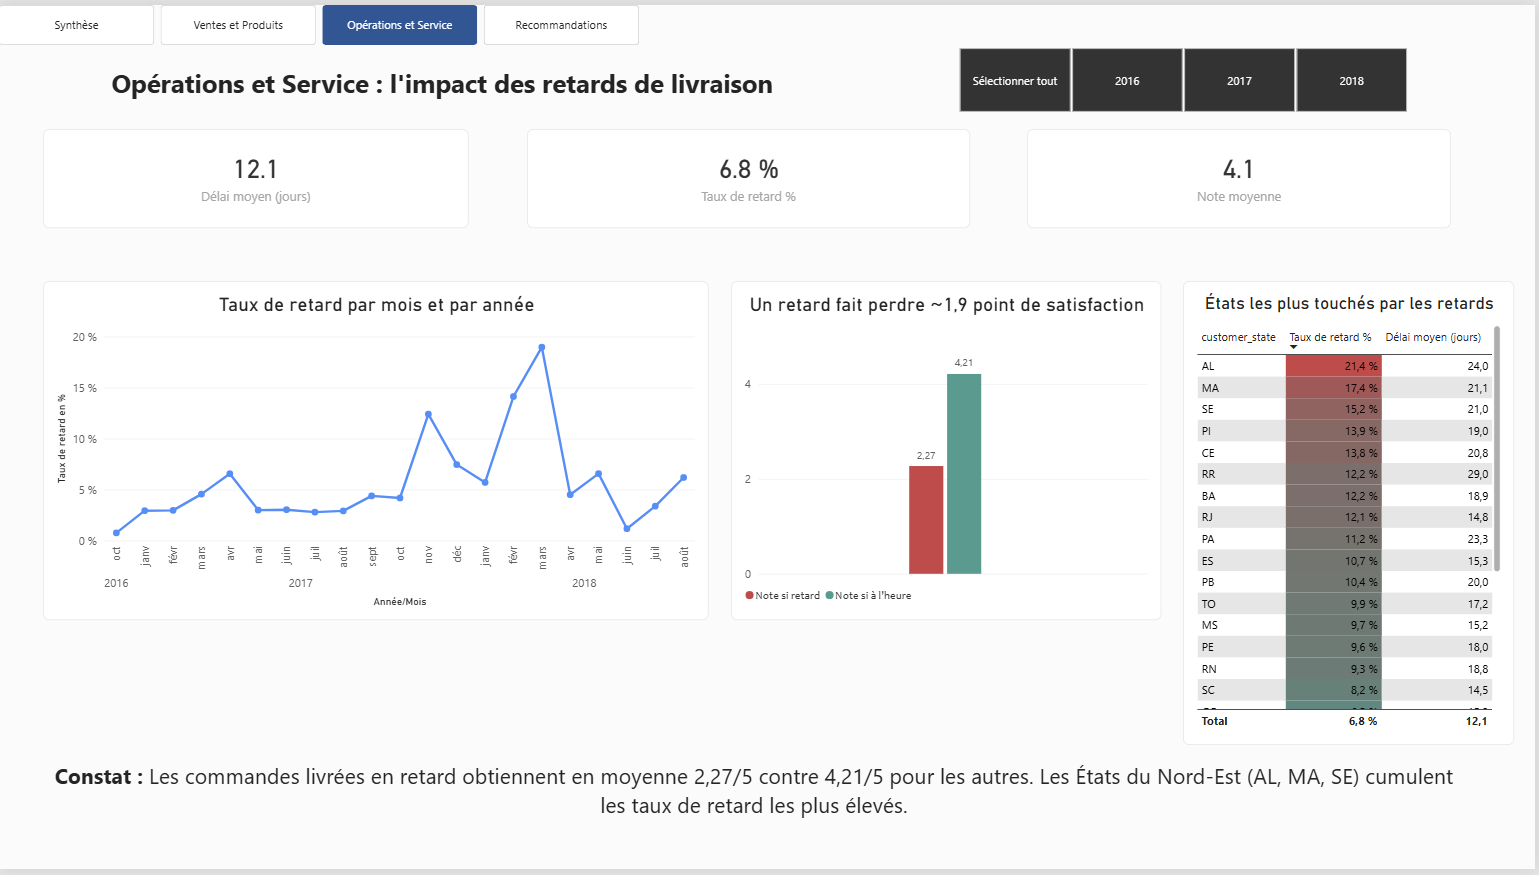

What the dashboard file says about the page in this screenshot:
{"tool":"powerbi","page":{"name":"Opérations et Service","canvas":[1920,1080],"ordinal":2},"visuals":[{"type":"advanceCardE03760C5AB684758B56AA29F9E6C257B","fields":{"mainMeasure":["_Mesures.Délai moyen (jours)"]},"box":[54,156,532,124],"z":0},{"type":"advanceCardE03760C5AB684758B56AA29F9E6C257B","fields":{"mainMeasure":["_Mesures.Taux de retard %"]},"box":[659,156,554,124],"z":1000},{"type":"advanceCardE03760C5AB684758B56AA29F9E6C257B","fields":{"mainMeasure":["_Mesures.Note moyenne"]},"box":[1286,156,530,124],"z":2000},{"type":"clusteredColumnChart","title":"Un retard fait perdre ~1,9 point de satisfaction","fields":{"Y":["_Mesures.Note si retard","_Mesures.Note si à l'heure"]},"box":[915,346,538,424],"z":3000},{"type":"lineChart","title":"Taux de retard par mois et par année","fields":{"Category":["calendrier.Année","calendrier.Mois"],"Y":["_Mesures.Taux de retard % (courbe)"]},"box":[56,346,832,424],"z":4000},{"type":"tableEx","title":"États les plus touchés par les retards","fields":{"Values":["Clients.customer_state","_Mesures.Taux de retard %","_Mesures.Délai moyen (jours)"]},"box":[1480,346,414,580],"z":5000},{"type":"slicer","fields":{"Values":["calendrier.Année"]},"box":[1180.2,49.2,599.2,85.6],"z":6000},{"type":"textbox","box":[114.7,74.7,877.8,52.8],"z":7000},{"type":"textbox","box":[55,945,1777.5,77.5],"z":8000},{"type":"pageNavigator","box":[0,0,800,50],"z":8001}]}

Visuals, with their boxes in screenshot pixels (x1, y1, x2, y2), scaled from the page's 1920x1080 canvas onto the 1539x875 screenshot:
advanceCardE03760C5AB684758B56AA29F9E6C257B - _Mesures.Délai moyen (jours): pyautogui.locateOnScreen(43, 126, 470, 227)
advanceCardE03760C5AB684758B56AA29F9E6C257B - _Mesures.Taux de retard %: pyautogui.locateOnScreen(528, 126, 972, 227)
advanceCardE03760C5AB684758B56AA29F9E6C257B - _Mesures.Note moyenne: pyautogui.locateOnScreen(1031, 126, 1456, 227)
"Un retard fait perdre ~1,9 point de satisfaction" clusteredColumnChart: pyautogui.locateOnScreen(733, 280, 1165, 624)
"Taux de retard par mois et par année" lineChart: pyautogui.locateOnScreen(45, 280, 712, 624)
"États les plus touchés par les retards" tableEx: pyautogui.locateOnScreen(1186, 280, 1518, 750)
slicer - calendrier.Année: pyautogui.locateOnScreen(946, 40, 1426, 109)
textbox: pyautogui.locateOnScreen(92, 61, 796, 103)
textbox: pyautogui.locateOnScreen(44, 766, 1469, 828)
pageNavigator: pyautogui.locateOnScreen(0, 0, 641, 41)
